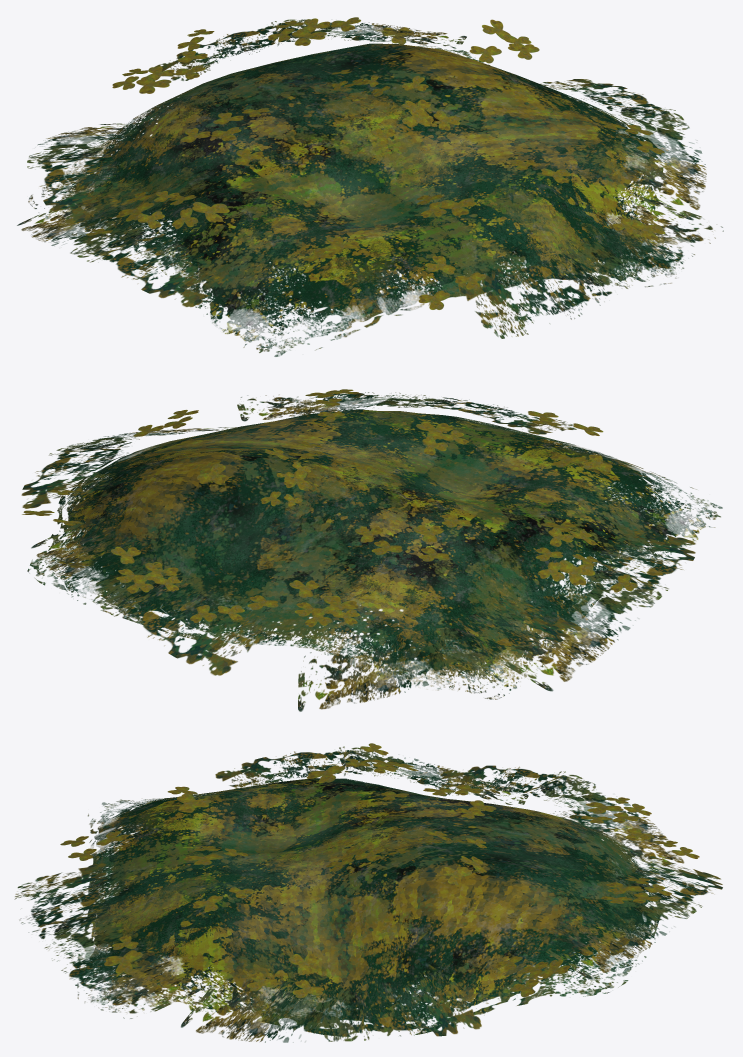
The model's file is mound.glb.
3 views of the same model, one above another, from view 1: azimuth 30°, elevation 25°; view 2: azimuth 150°, elevation 25°; view 3: azimuth 270°, elevation 25° (orthographic). The views are drawn at different scales.
Parts seen in each view (by area): view 1: Cube; view 2: Cube; view 3: Cube.
Part boxes in pixels (<box>): Cube: <box>17,17,723,356</box>; Cube: <box>21,389,722,711</box>; Cube: <box>14,743,722,1042</box>.
Size of the model in its own units: 15.88 by 2.96 by 16.49.
Materials: 1 (1 with a texture image).
